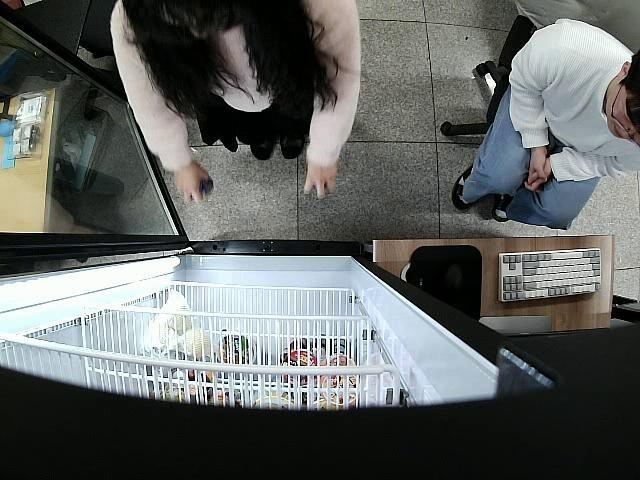14_welchsGrape: (192, 175, 213, 200)
